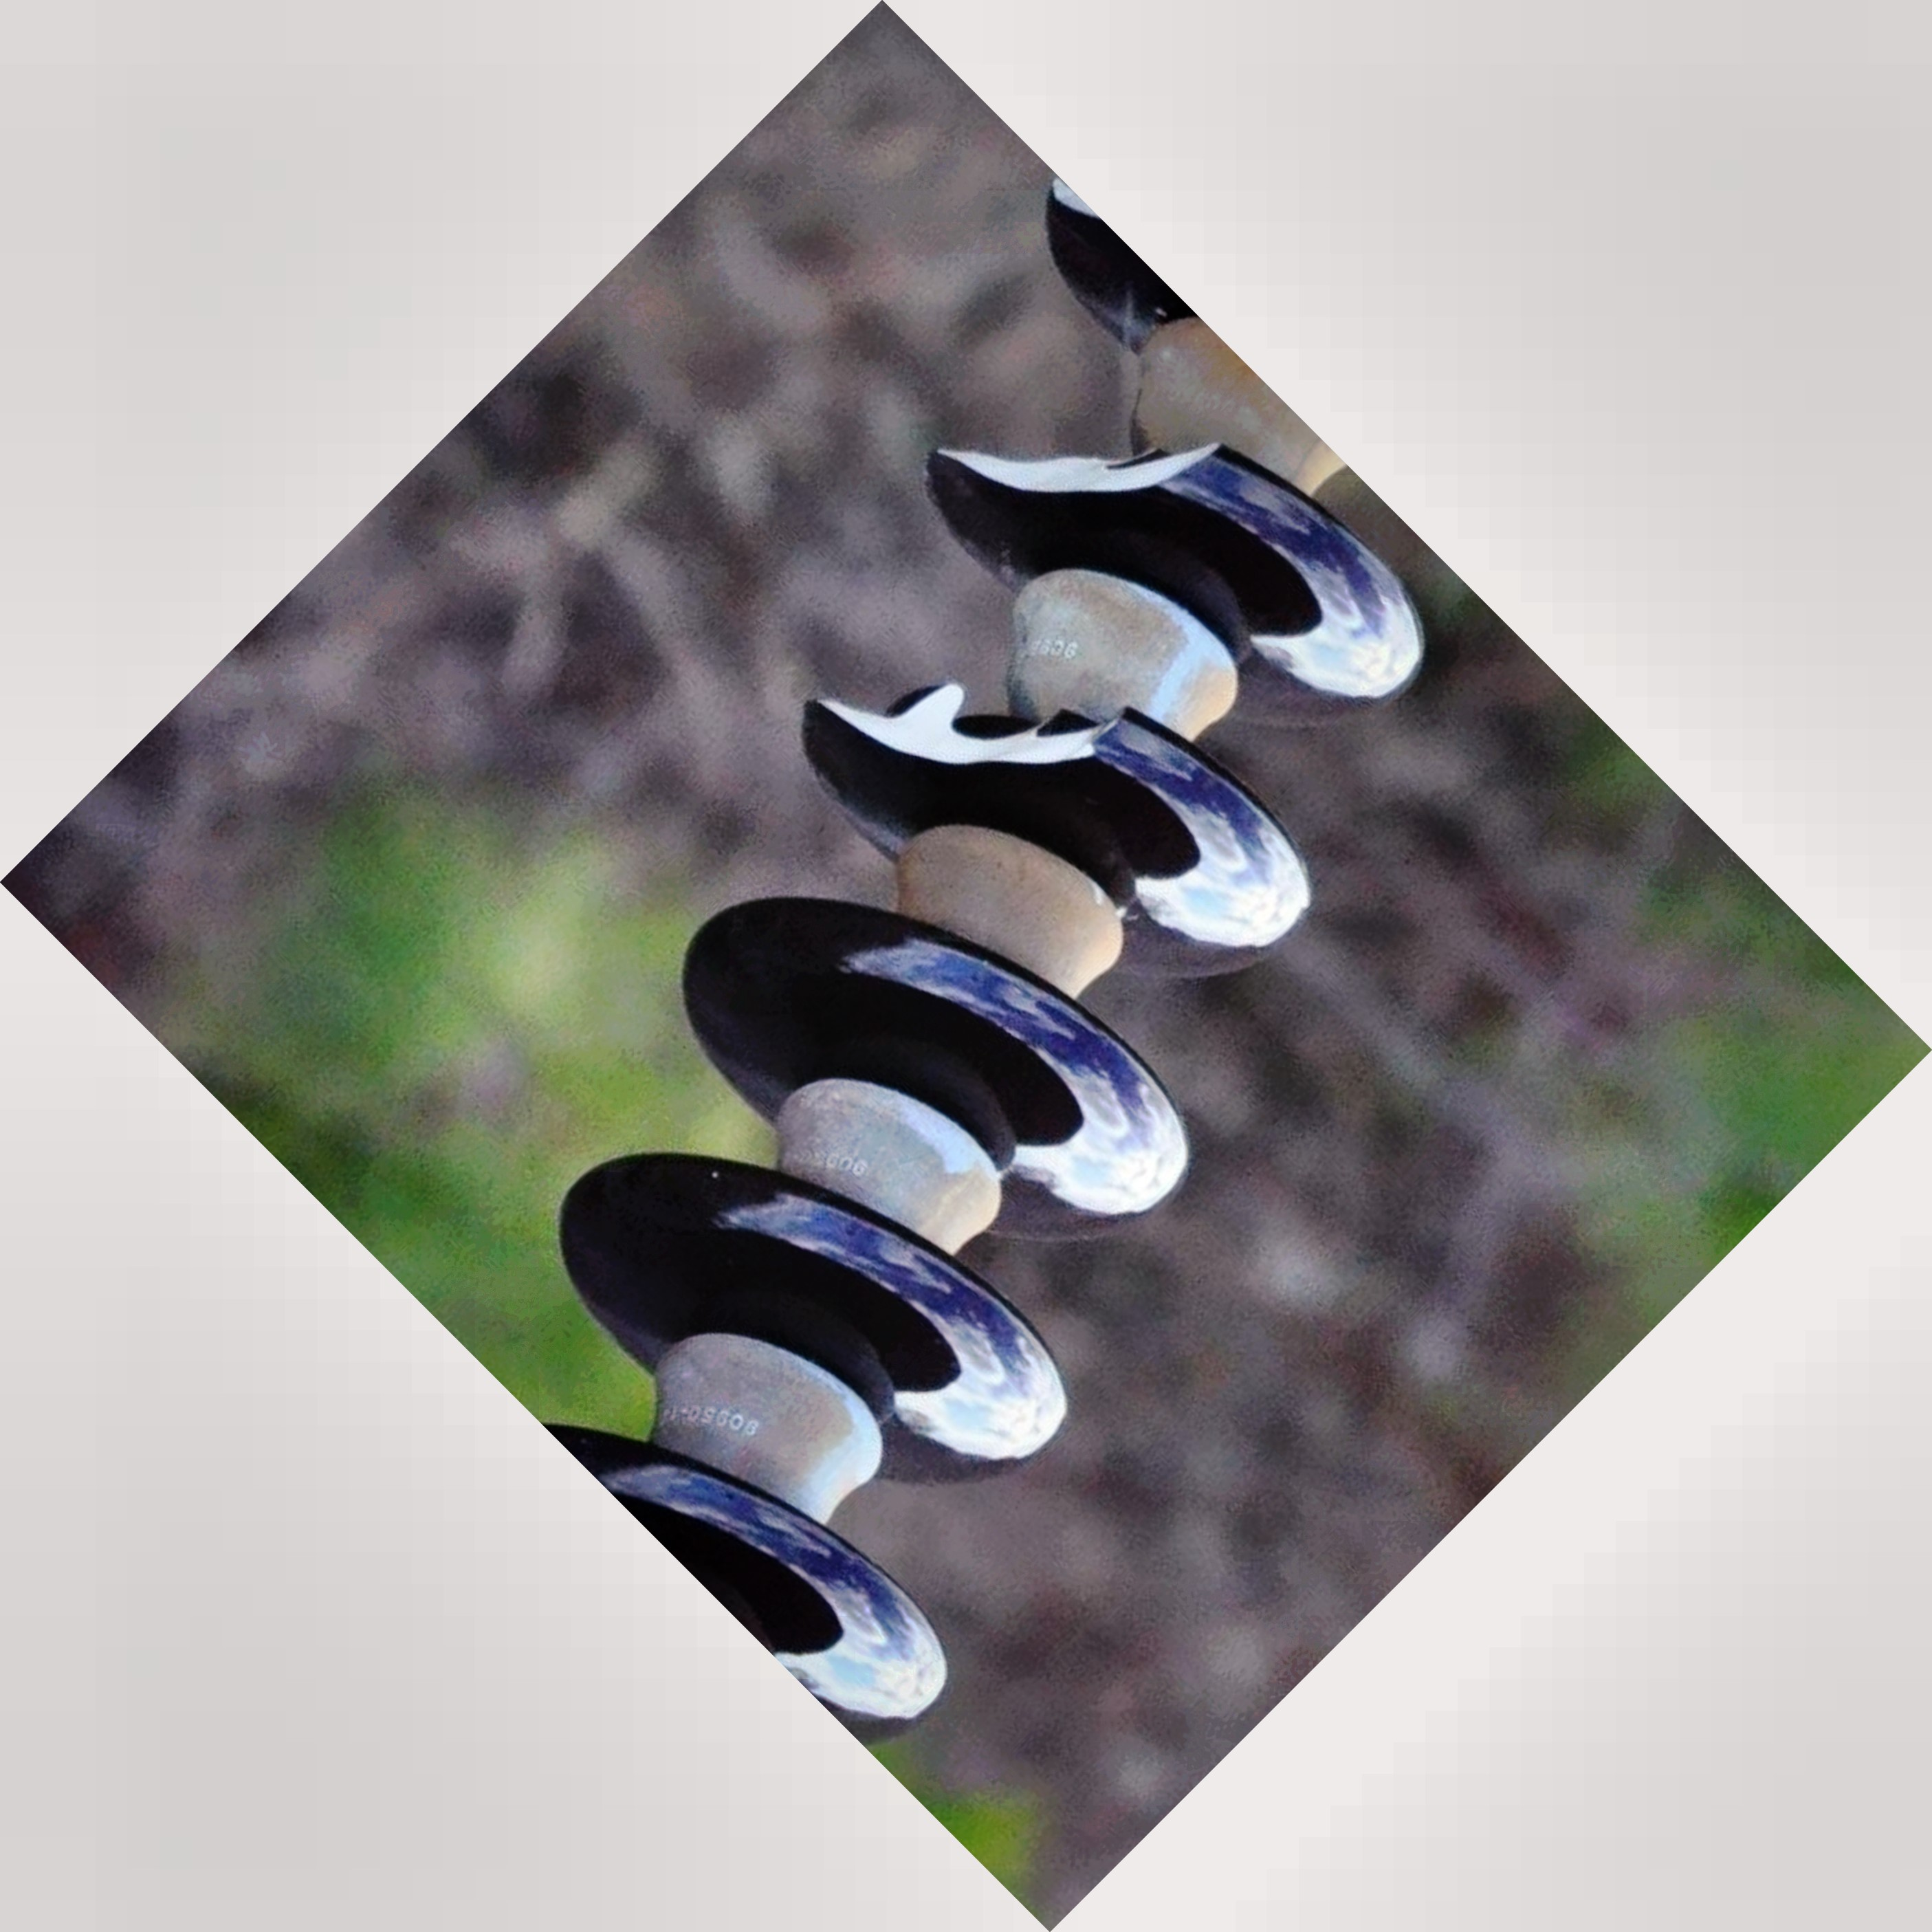insulator breakage: (787, 409, 1431, 977)
